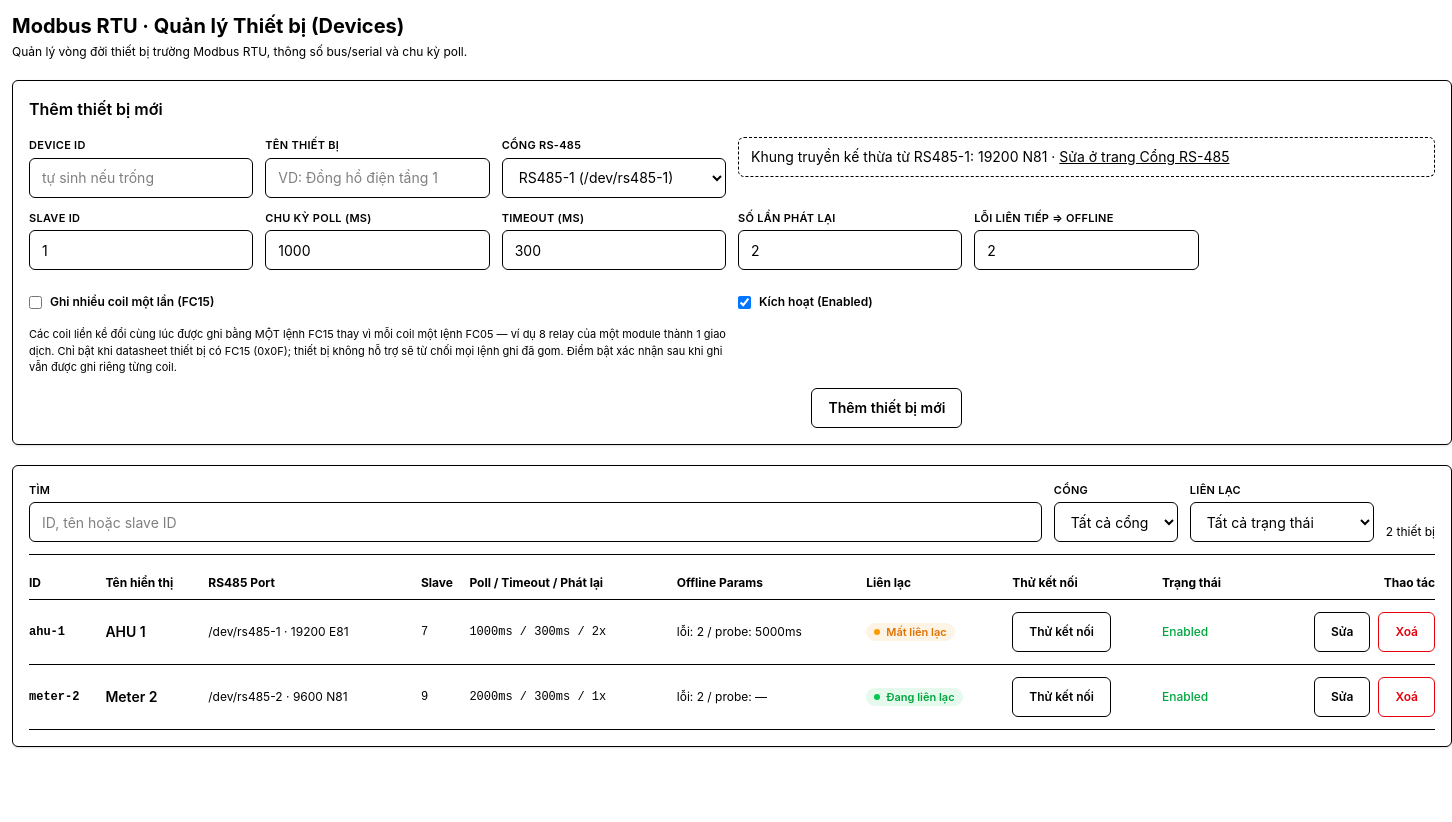
DevicesPage › tìm theo ID, tên hoặc slave ID
The width and height of the screenshot is (1452, 822).
Expected: the text "ahu-1" is shown, top-left (29, 600), bottom-right (105, 664)
Type "Meter" into the search field named "Tìm thiết bị" at x=535, y=522, box top-left (29, 502), bottom-right (1042, 542)
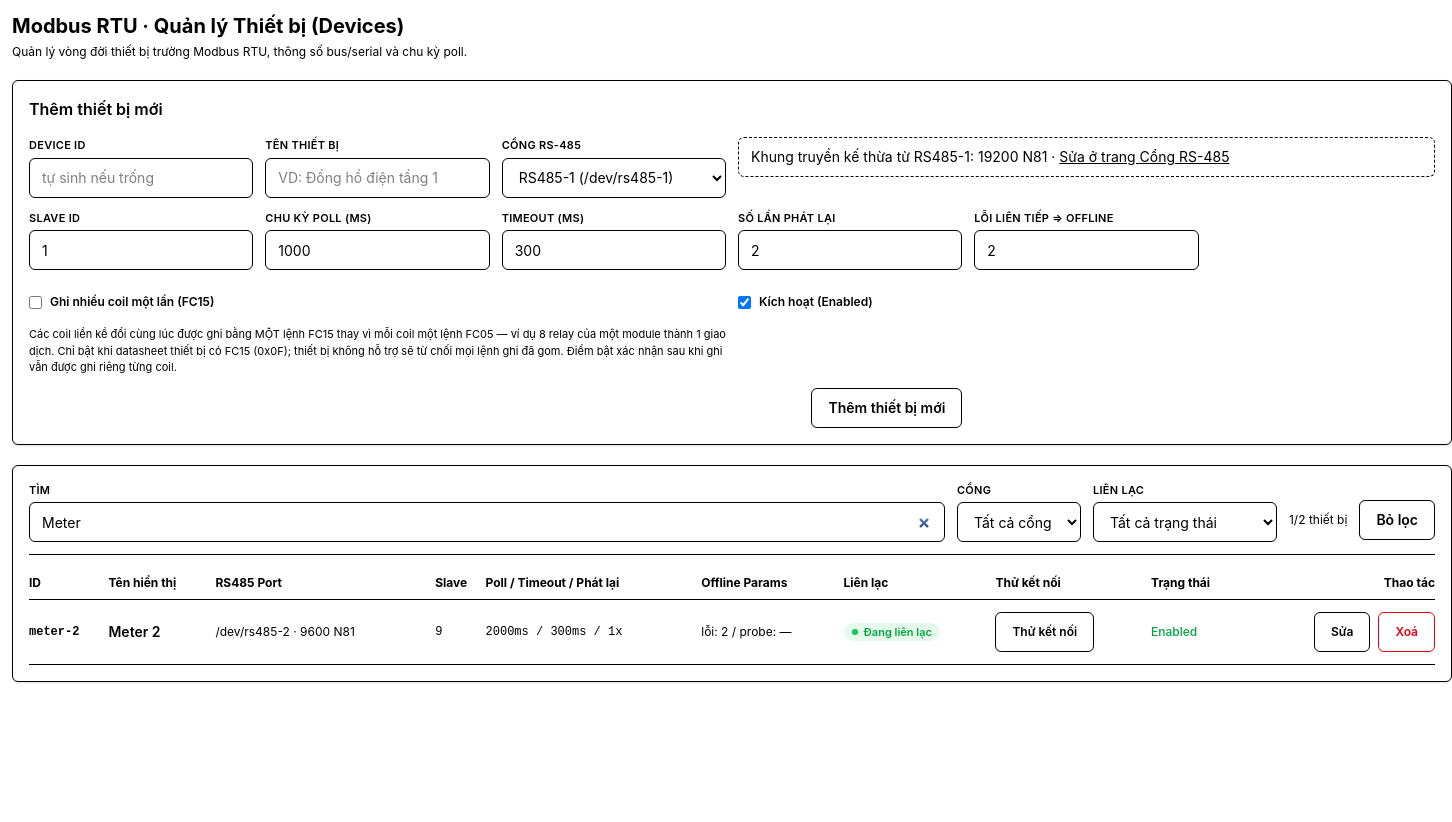
Expected: the text "meter-2" is shown, top-left (29, 600), bottom-right (108, 664)
Now the text "ahu-1" is gone
